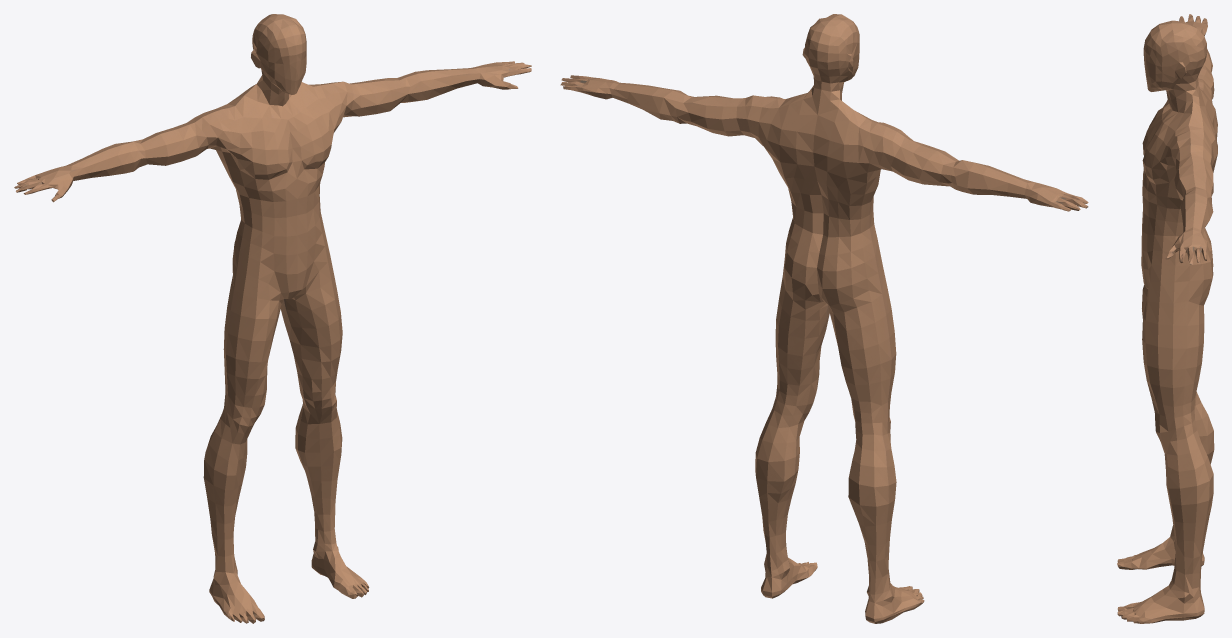
The model's file is Basemodel.glb.
3 renders of one model, left to right at view 1: azimuth 30°, elevation 25°; view 2: azimuth 150°, elevation 25°; view 3: azimuth 270°, elevation 25°, orthographic. The views are drawn at different scales.
Parts seen in each view (by area): view 1: mesh_node; view 2: mesh_node; view 3: mesh_node.
Part boxes in pixels (box(x1,y1,x2,y2)): mesh_node: box(14, 14, 531, 623); mesh_node: box(560, 14, 1088, 623); mesh_node: box(1117, 14, 1217, 623).
Size of the model in its own units: 0.9434 by 1 by 0.1611.
Materials: 1 (1 with a texture image).
